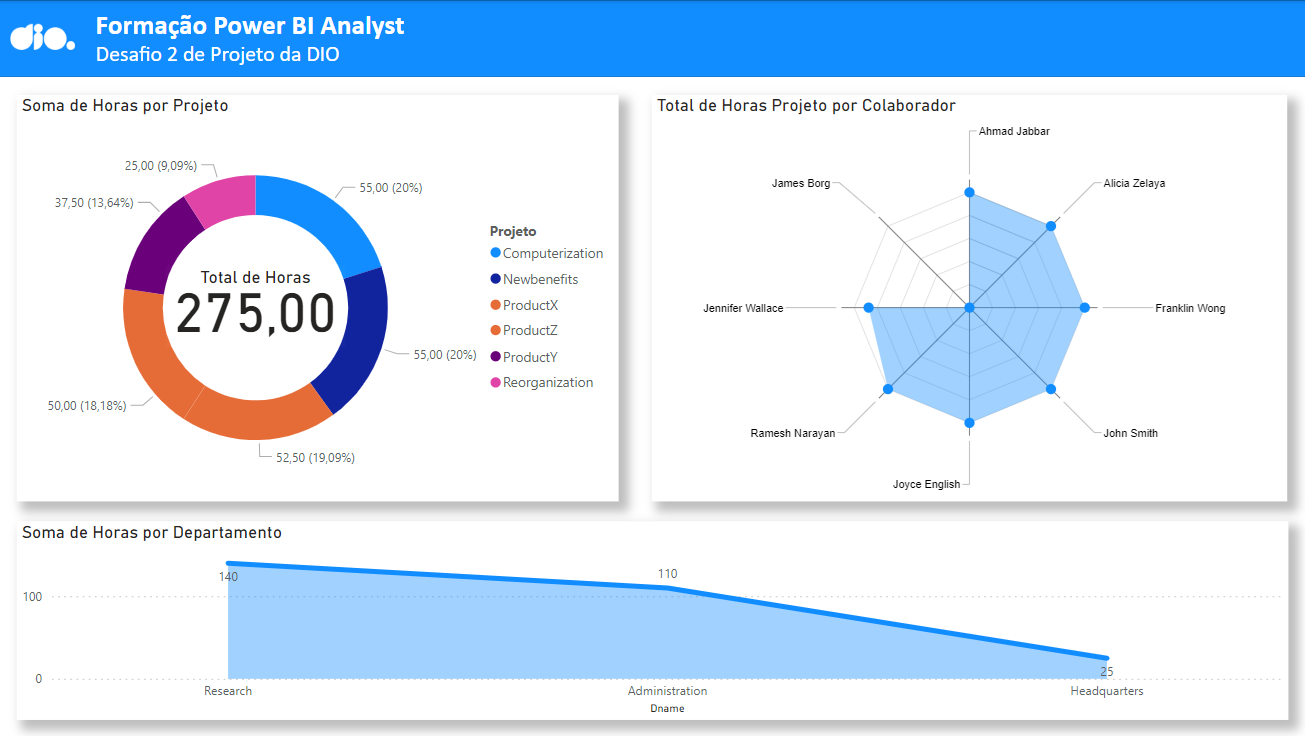

Layout of this report page (visuals, bound fields, positions):
{"tool":"powerbi","page":{"name":"Página 2","canvas":[1280,720],"ordinal":1},"visuals":[{"type":"donutChart","title":"Soma de Horas por Projeto","fields":{"Category":["azure_company project.Pname"],"Y":["azure_company works_on.Hours"]},"box":[18.2,92.5,588.4,397.3],"z":6000},{"type":"RadarChart1446119667547","title":"Total de Horas Projeto por Colaborador","fields":{"Category":["employee_project_hours.FName"],"Y":["employee_project_hours.azure_company works_on.Hours"]},"box":[640,92.5,621.8,397.3],"z":7000},{"type":"shape","box":[0,0,1280.6,75.6],"z":8000},{"type":"textbox","box":[90.7,2.7,347.6,72.8],"z":9000},{"type":"image","title":"logo_dio","box":[6.9,5.5,72.8,61.8],"z":10000},{"type":"lineChart","title":"Soma de Horas por Departamento","fields":{"Category":["azure_company departament.Dname"],"Y":["azure_company works_on.Hours"]},"box":[18.2,509.6,1243.6,194.1],"z":10001}]}

Visuals, with their boxes in screenshot pixels (x1, y1, x2, y2), scaled from the page's 1280x720 canvas onto the 1305x737 screenshot:
"Soma de Horas por Projeto" donutChart: <bbox>19, 95, 618, 501</bbox>
"Total de Horas Projeto por Colaborador" RadarChart1446119667547: <bbox>652, 95, 1286, 501</bbox>
shape: <bbox>0, 0, 1304, 77</bbox>
textbox: <bbox>92, 3, 447, 77</bbox>
"logo_dio" image: <bbox>7, 6, 81, 69</bbox>
"Soma de Horas por Departamento" lineChart: <bbox>19, 522, 1286, 720</bbox>
